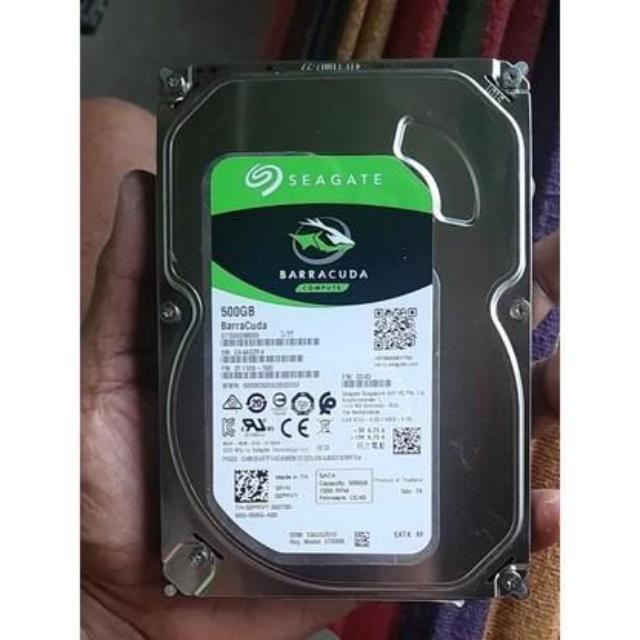DISK: (146, 52, 532, 600)
